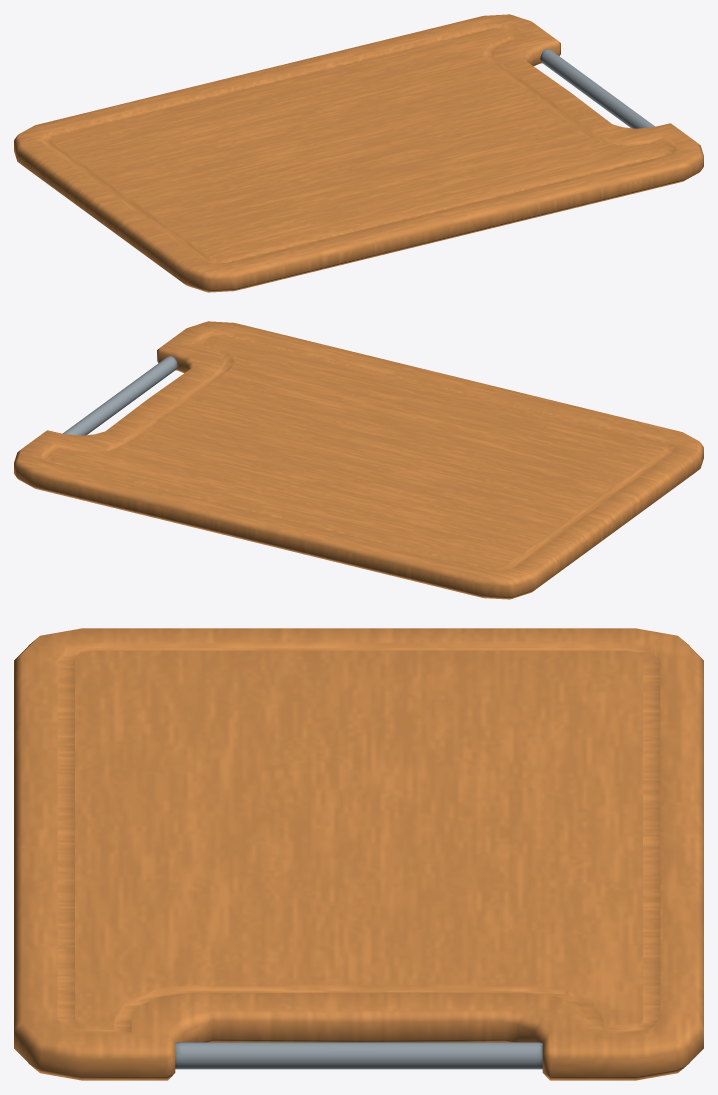
File: ChoppingBoard.fbx
3 renders of one model, top to bottom at view 1: azimuth 30°, elevation 25°; view 2: azimuth 150°, elevation 25°; view 3: azimuth 270°, elevation 25°, orthographic. The views are drawn at different scales.
Parts seen in each view (by area): view 1: Cube.005; view 2: Cube.005; view 3: Cube.005.
Part boxes in pixels (box(x1,y1,x2,y2)): Cube.005: box(14, 14, 703, 292); Cube.005: box(14, 321, 703, 599); Cube.005: box(14, 628, 703, 1080).
Bounding box in the file's own units: 58.63 × 2.14 × 40.12.
